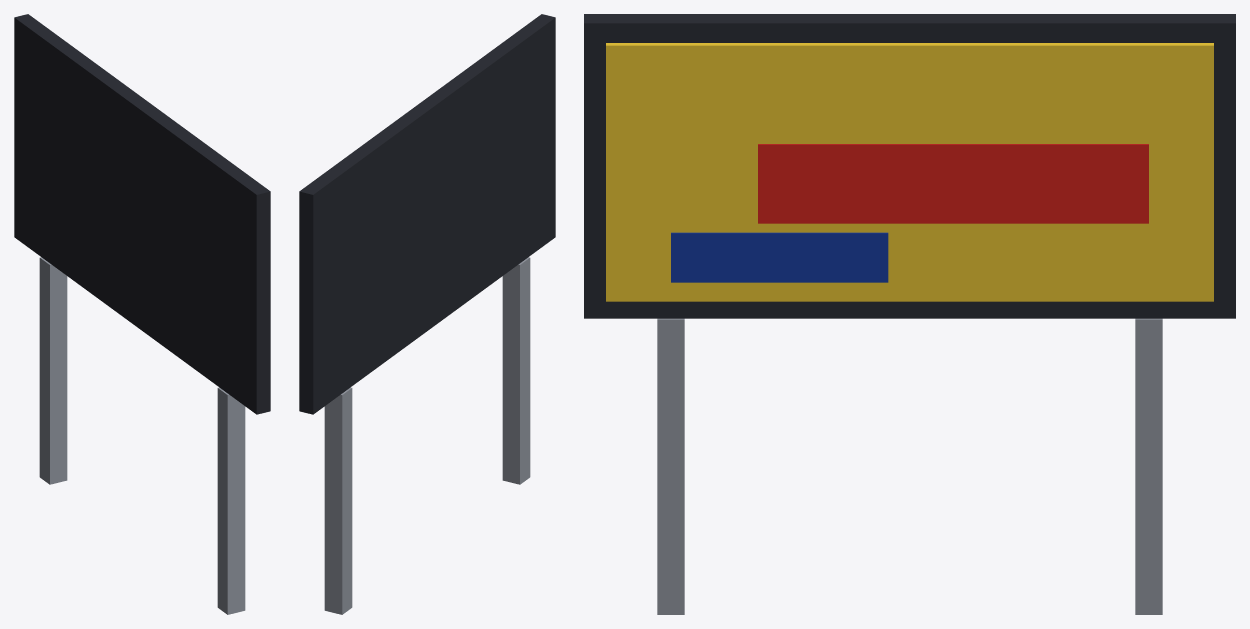
File: valla_publicidad.obj
3 renders of one model, left to right at view 1: azimuth 30°, elevation 25°; view 2: azimuth 150°, elevation 25°; view 3: azimuth 270°, elevation 25°, orthographic. The views are drawn at different scales.
Visible parts, largest first — view 1: valla_publicidad; view 2: valla_publicidad; view 3: valla_publicidad.
Part boxes in pixels (left/top/right/bottom): valla_publicidad: left=14, top=14, right=270, bottom=614; valla_publicidad: left=299, top=14, right=555, bottom=614; valla_publicidad: left=584, top=14, right=1235, bottom=614.
Size of the model in its own units: 0.3 by 6 by 6.
